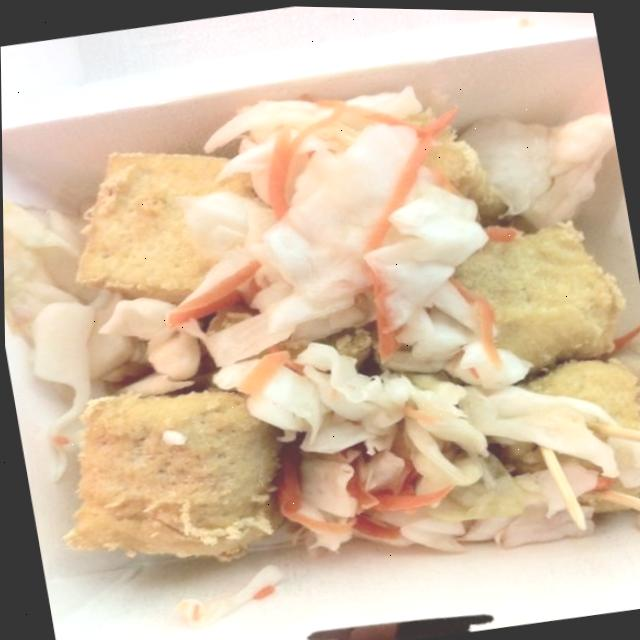豆腐料理: (0, 1, 640, 640)
